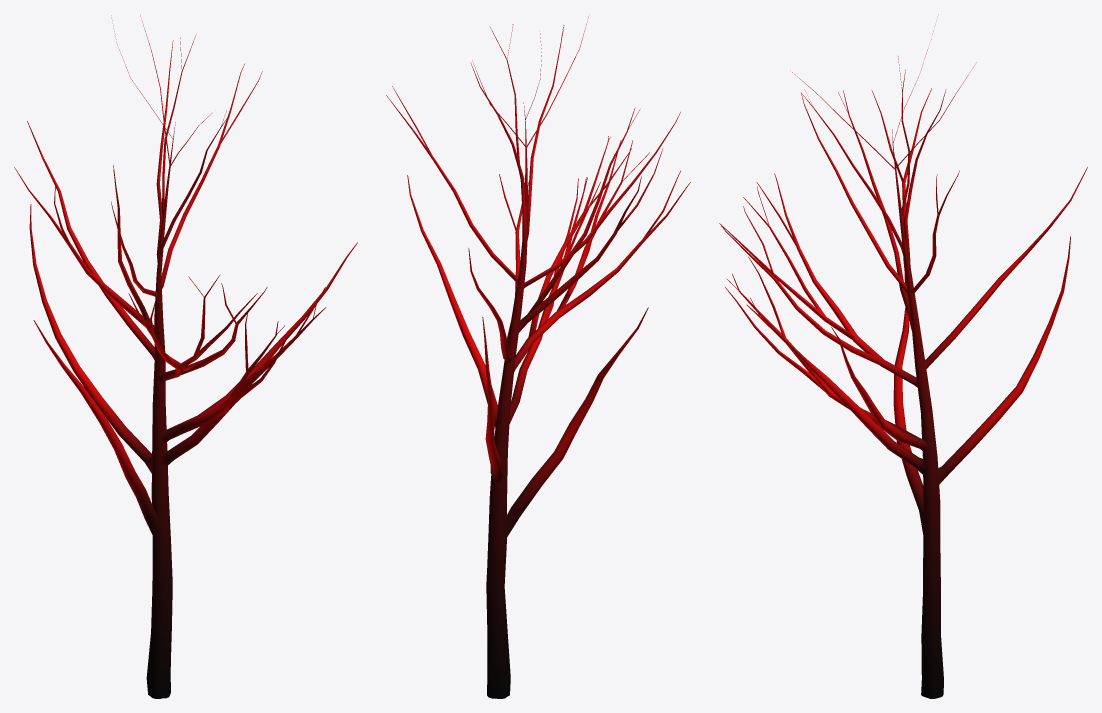
File: Long_Tree_NoLeaf.fbx
3 views of the same model, side by side, from view 1: azimuth 30°, elevation 25°; view 2: azimuth 150°, elevation 25°; view 3: azimuth 270°, elevation 25° (orthographic). The views are drawn at different scales.
Parts seen in each view (by area): view 1: Oak__1__LOD0; view 2: Oak__1__LOD0; view 3: Oak__1__LOD0.
Boxes of the visible parts, <box> form: Oak__1__LOD0: <box>14,15,357,698</box>; Oak__1__LOD0: <box>386,16,690,698</box>; Oak__1__LOD0: <box>719,14,1087,698</box>.
Bounding box in the file's own units: 437 × 989 × 502.
